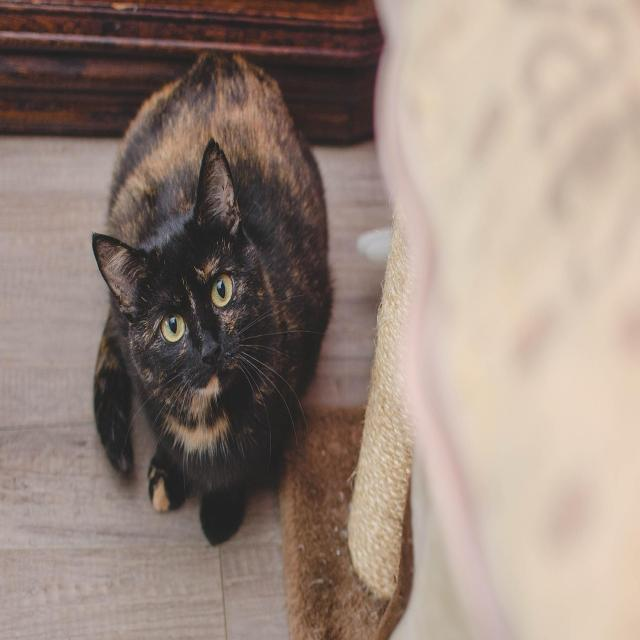cat: (92, 53, 336, 549)
